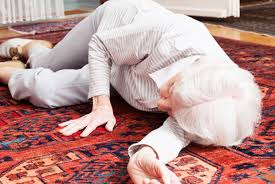falling: (18, 1, 259, 184)
